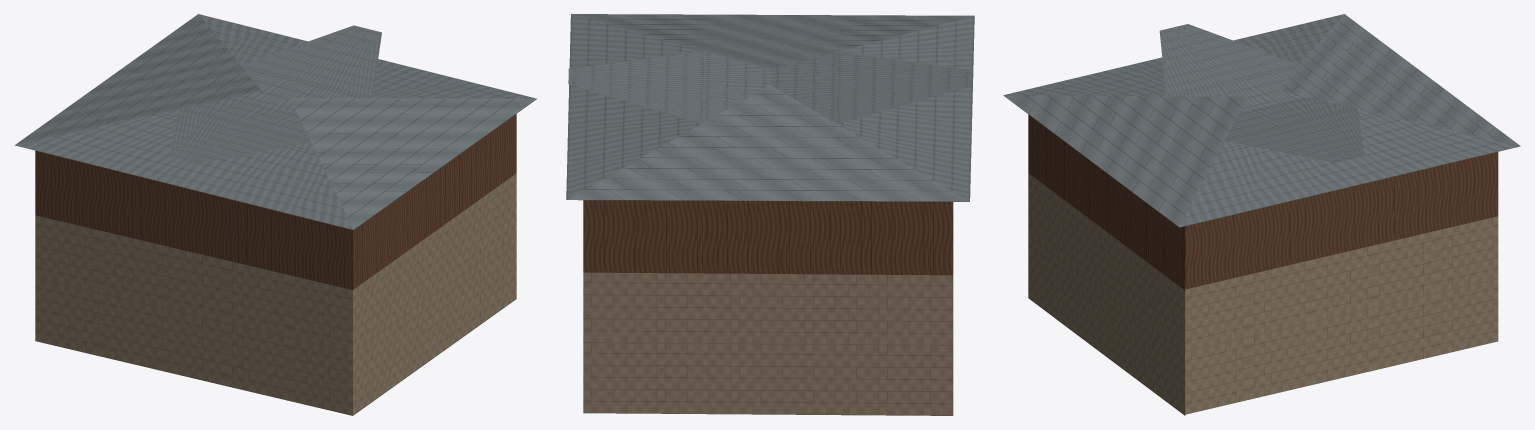
The model's file is bld_c41_34_277.gltf.
3 renders of one model, left to right at view 1: azimuth 30°, elevation 25°; view 2: azimuth 150°, elevation 25°; view 3: azimuth 270°, elevation 25°, orthographic. The views are drawn at different scales.
Parts seen in each view (by area): view 1: bld_c41_34_277; view 2: bld_c41_34_277; view 3: bld_c41_34_277.
Part boxes in pixels (box(x1,y1,x2,y2)): bld_c41_34_277: box(15, 14, 536, 415); bld_c41_34_277: box(566, 14, 974, 415); bld_c41_34_277: box(1003, 14, 1520, 415).
Size of the model in its own units: 16.75 by 8.2 by 17.16.
3 materials, 3 textured.
